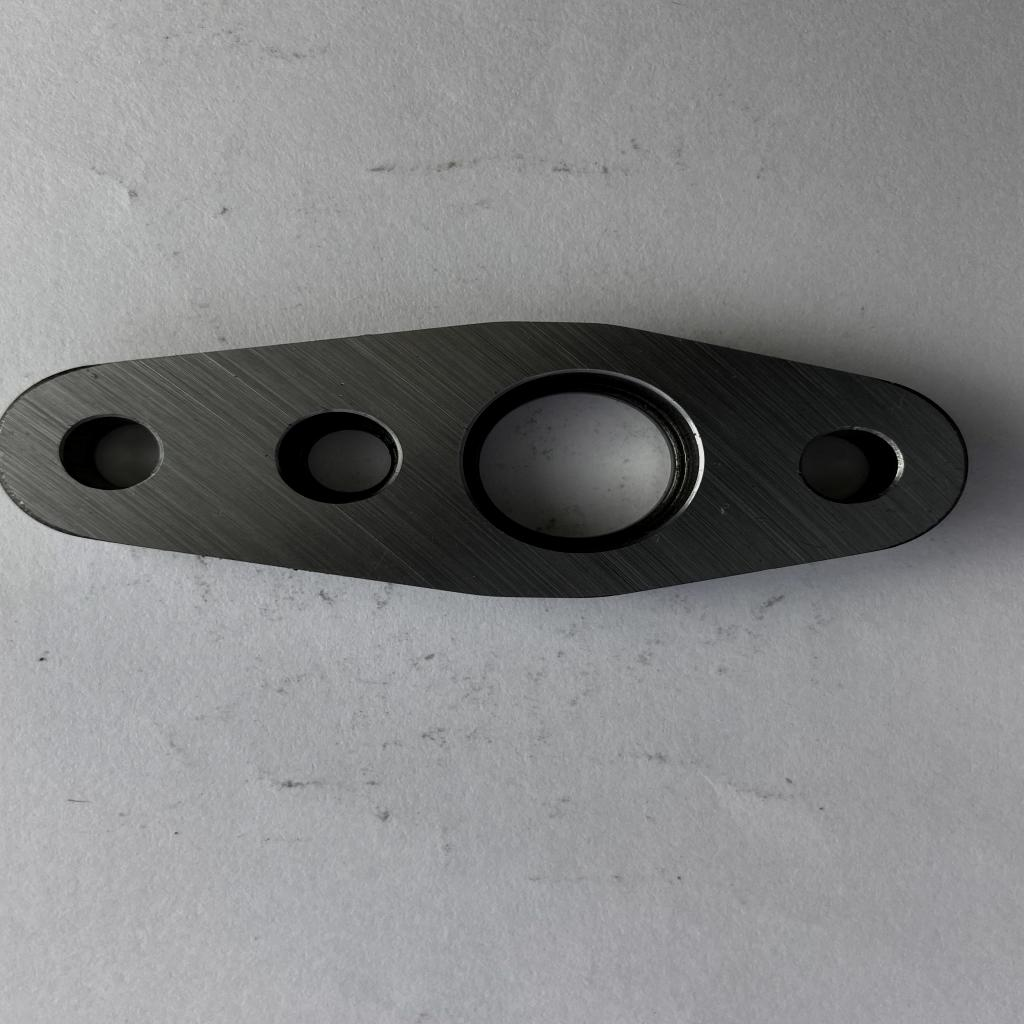chap: (338, 380, 346, 388), (338, 392, 343, 400)
